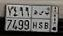4: (12, 7, 19, 31)
7: (5, 6, 13, 30)
9: (24, 5, 30, 32), (19, 5, 24, 31)
B: (44, 10, 51, 31)
H: (32, 9, 38, 30)
S: (39, 10, 44, 31)
